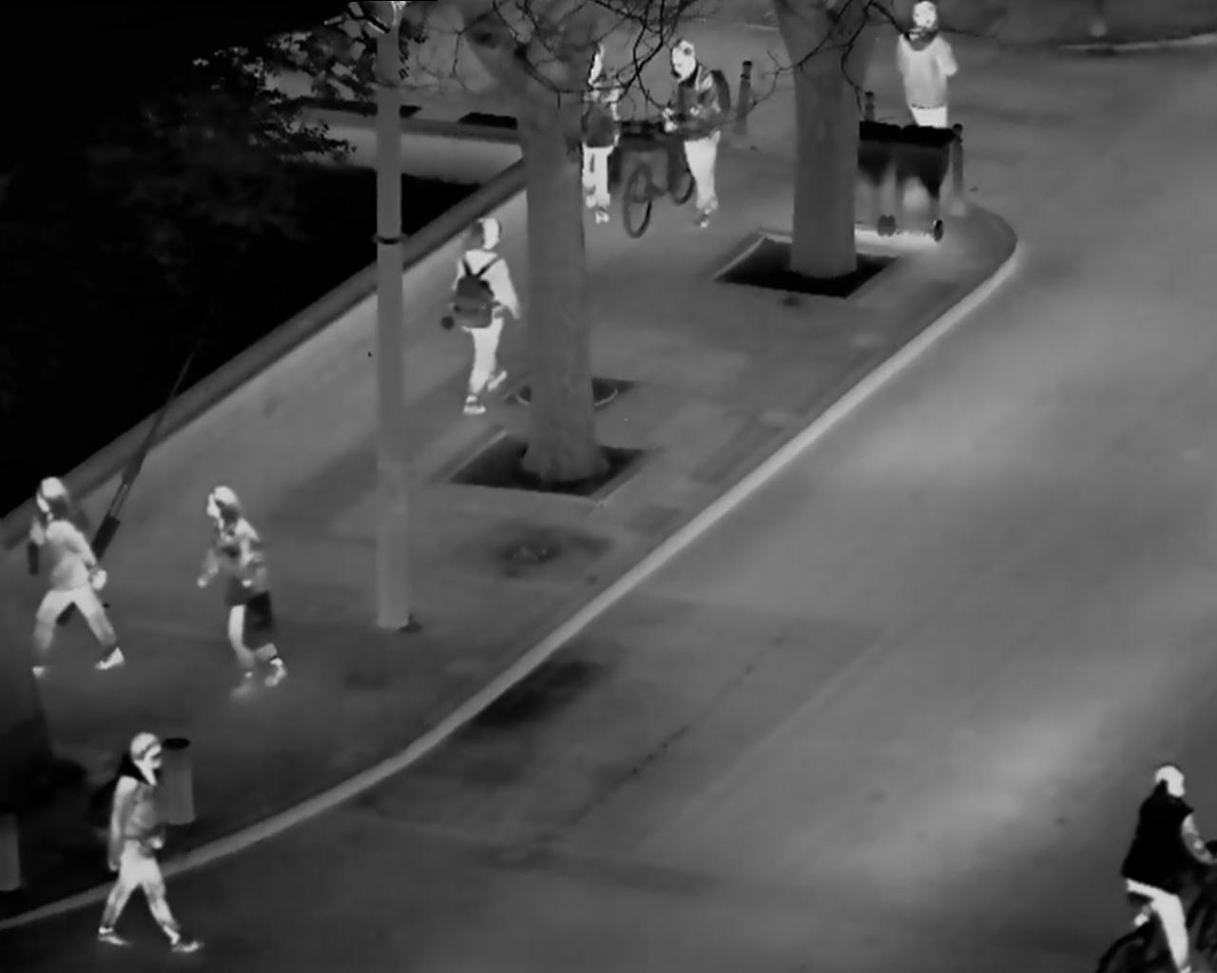person: (81, 714, 210, 964), (175, 477, 300, 702), (1098, 744, 1215, 973), (425, 199, 542, 417), (18, 464, 128, 688), (648, 23, 735, 230), (565, 24, 627, 236)
